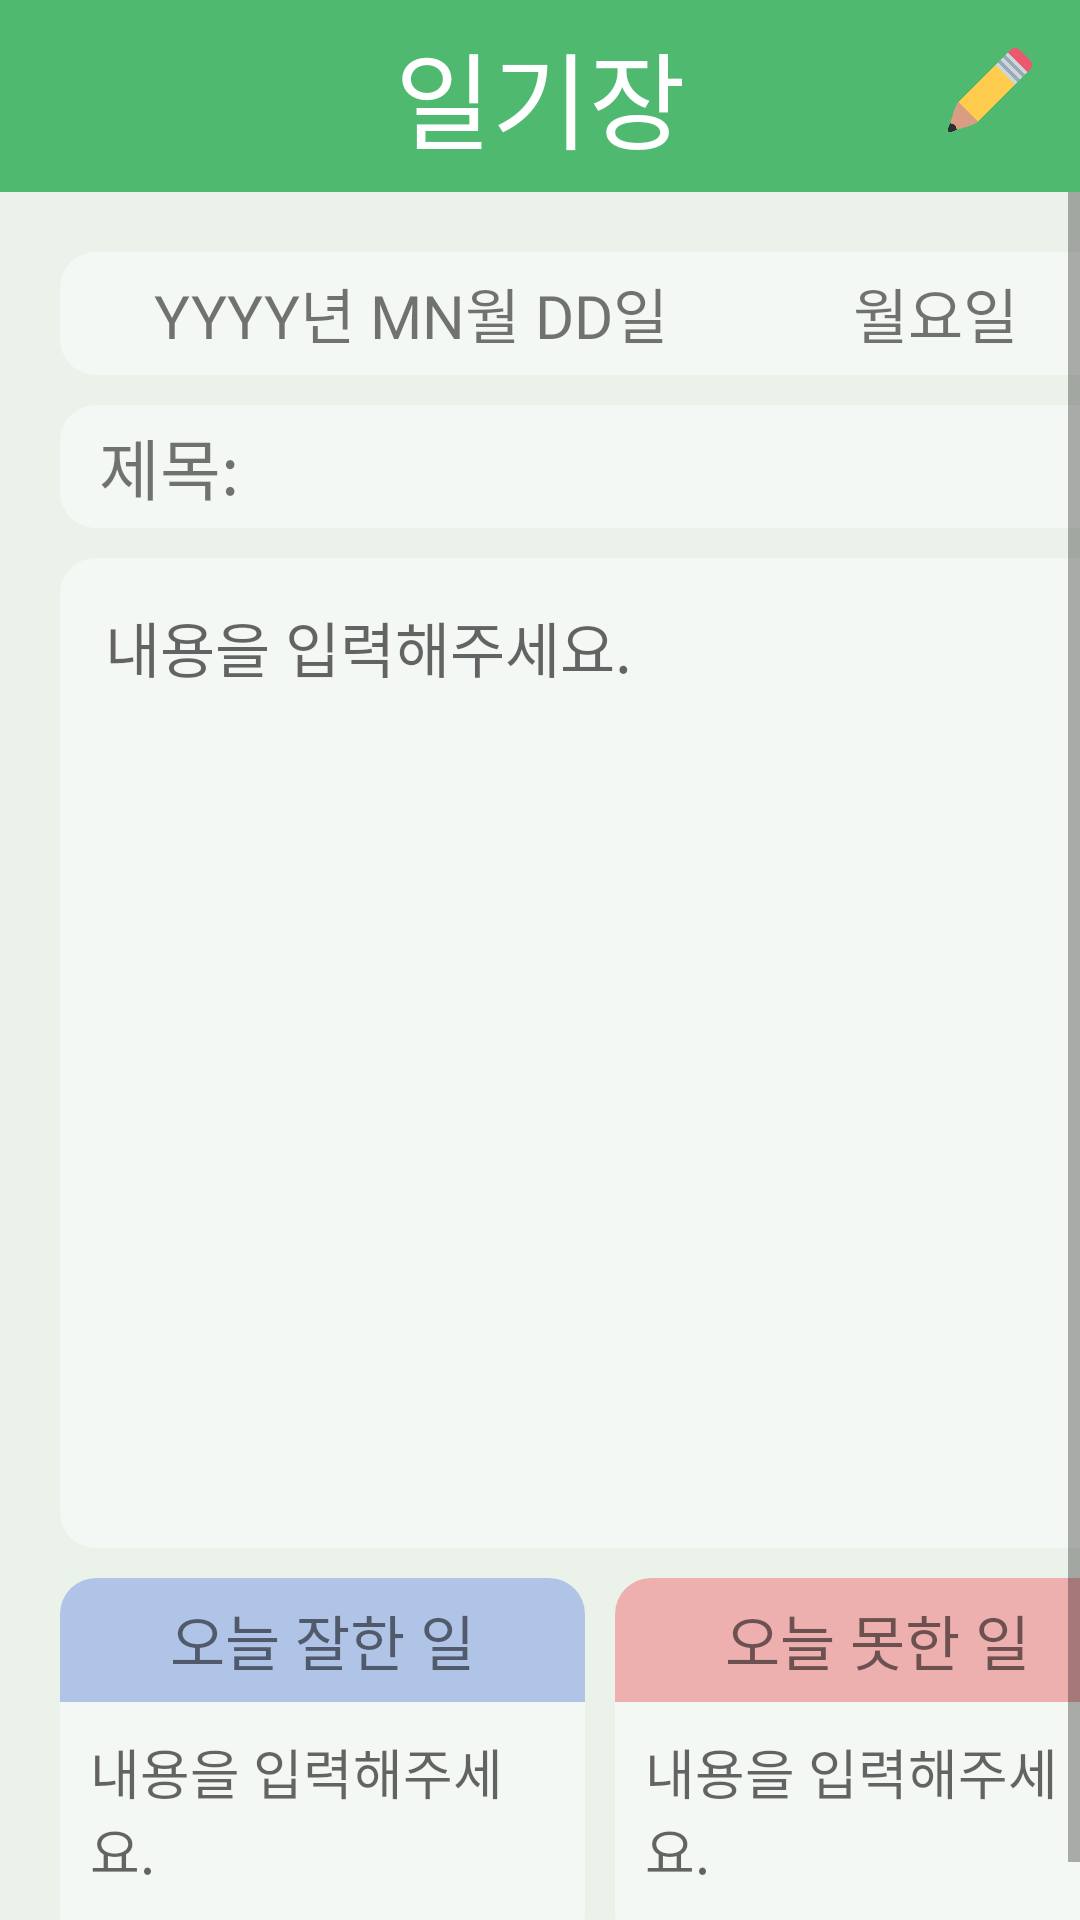

Named icons in this screenshot (1080x1920) and their bounding boxes, bbox=(x1, y1, x2, y2):
pencil: bbox=(948, 48, 1032, 132)
